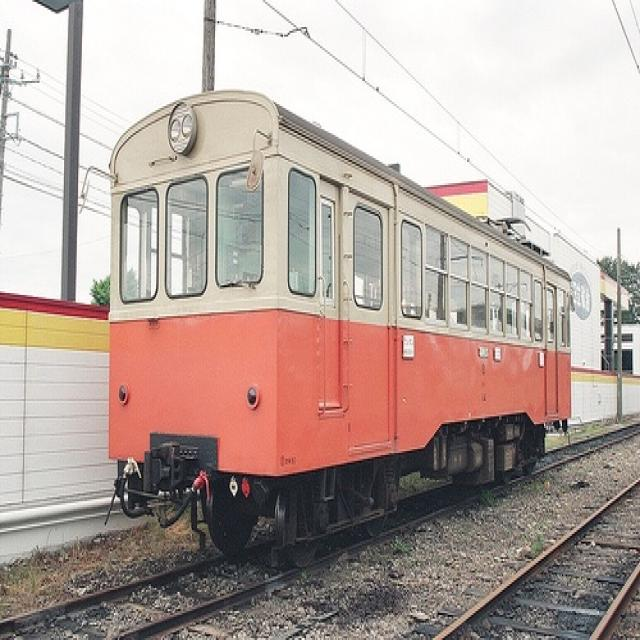train: (106, 87, 575, 570)
